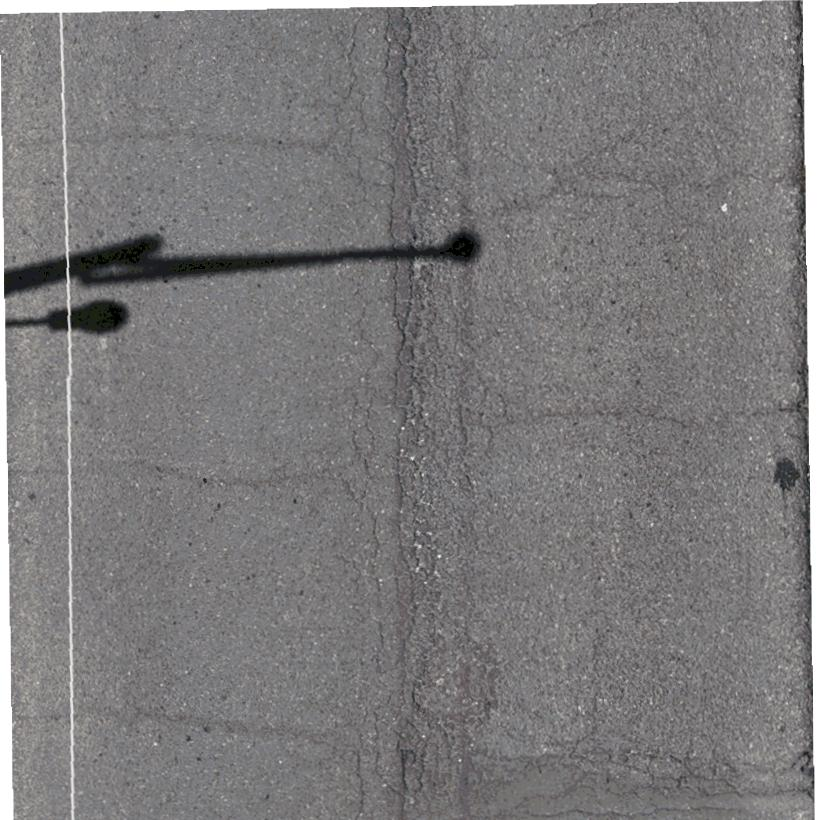GRIETA: (94, 708, 352, 755), (8, 459, 333, 487), (22, 126, 320, 152), (511, 408, 690, 430)
PIEL DE COCODRILO: (320, 6, 510, 819), (504, 730, 812, 819), (490, 121, 730, 218)
